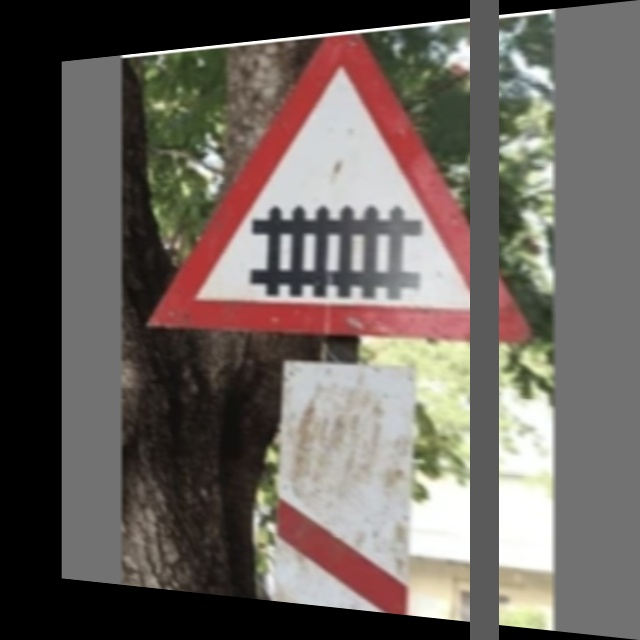Guarded_Level_Crossing: (163, 34, 511, 332)
